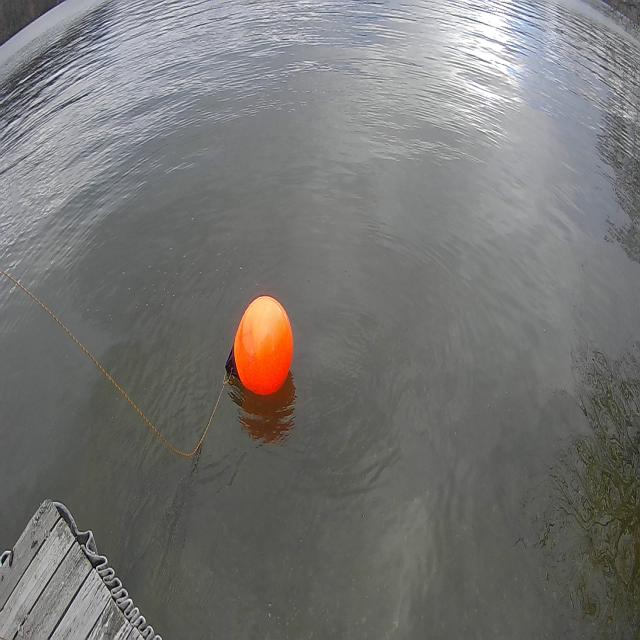Buoy: (222, 287, 296, 417)
